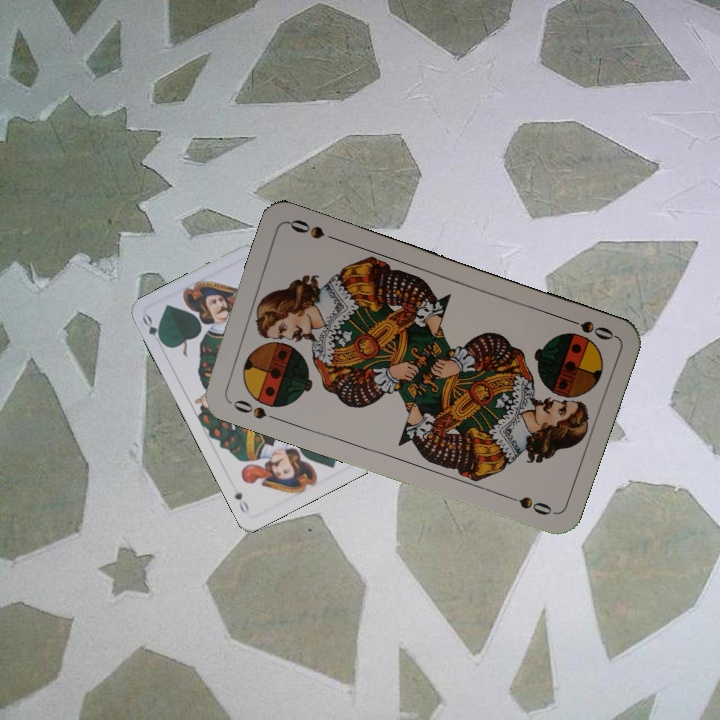GO: (138, 311, 167, 349)
SO: (559, 313, 617, 343), (224, 395, 269, 422)
